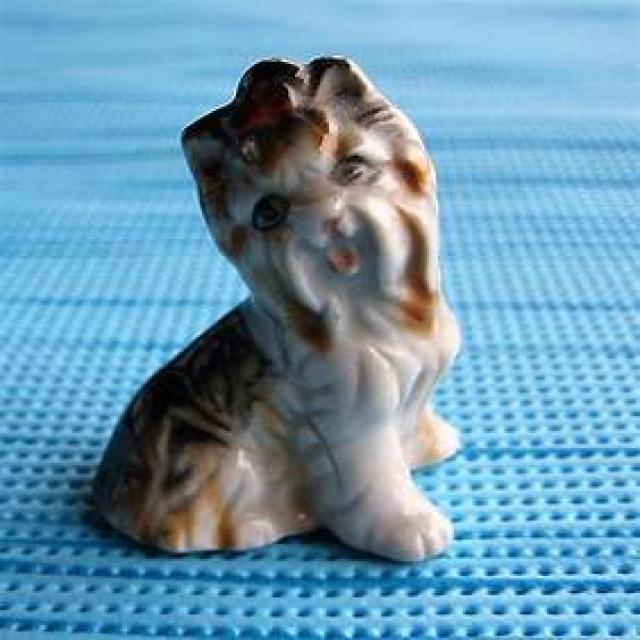cat: (103, 63, 492, 575)
